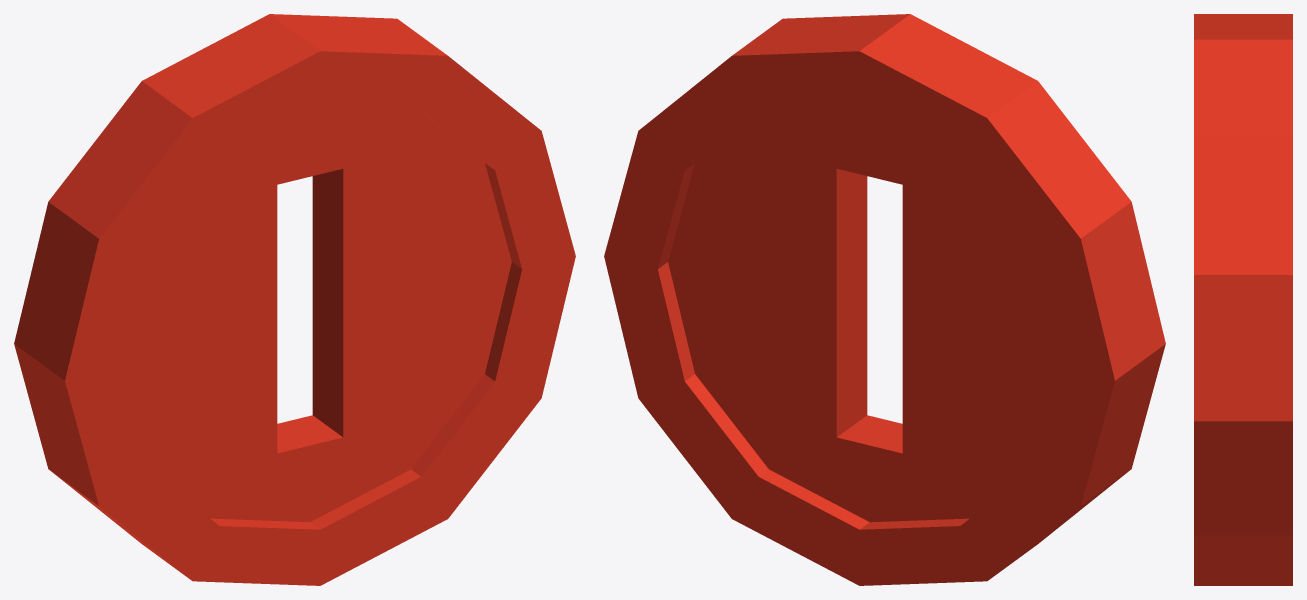
The model's file is Icon_Coin_02.fbx.
3 views of the same model, side by side, from view 1: azimuth 30°, elevation 25°; view 2: azimuth 150°, elevation 25°; view 3: azimuth 270°, elevation 25° (orthographic). The views are drawn at different scales.
Visible parts, largest first — view 1: Icon_Coin_02; view 2: Icon_Coin_02; view 3: Icon_Coin_02.
Boxes of the visible parts, x1,y1,x2,y2 form: Icon_Coin_02: [14, 14, 575, 585]; Icon_Coin_02: [604, 14, 1165, 585]; Icon_Coin_02: [1194, 14, 1292, 585].
Bounding box in the file's own units: 70 × 70 × 12.06.
